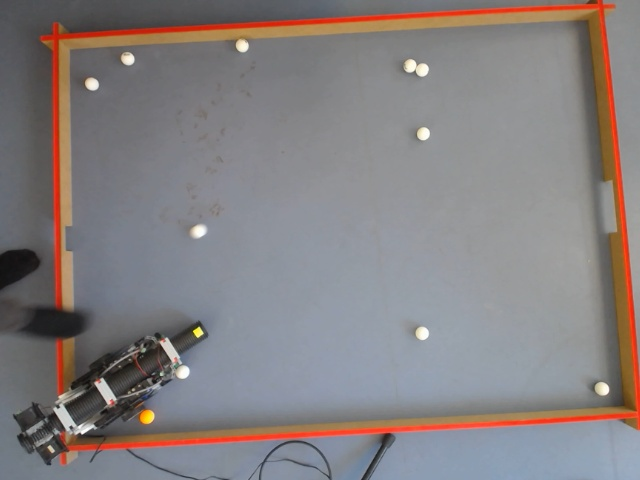orange: (140, 409, 155, 425)
robot: (15, 329, 206, 461)
white: (409, 58, 431, 79), (189, 222, 209, 239), (234, 36, 252, 54), (401, 57, 419, 75), (415, 124, 432, 142), (83, 74, 100, 92), (593, 380, 611, 397), (120, 51, 137, 68), (415, 61, 431, 79), (414, 324, 430, 341), (177, 364, 190, 379)
